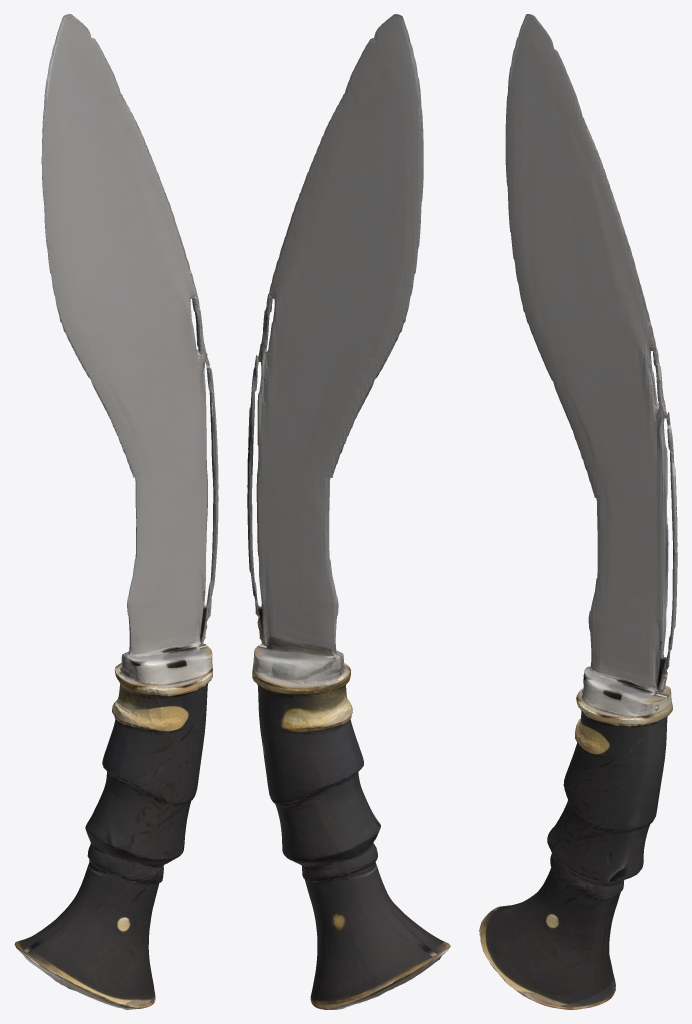
Rendered from Kukri_Blade_0624193520_texture.fbx.
The picture shows the model from 3 angles, left to right: view 1: azimuth 30°, elevation 25°; view 2: azimuth 150°, elevation 25°; view 3: azimuth 330°, elevation 25°; orthographic projection. The views are drawn at different scales.
Visible parts, largest first — view 1: temp; view 2: temp; view 3: temp.
Part boxes in pixels (<box>): temp: <box>14,14,218,1009</box>; temp: <box>247,14,450,1009</box>; temp: <box>479,14,677,1009</box>.
Size of the model in its own units: 40.51 by 200 by 25.29.
Materials: 1 (1 with a texture image).
